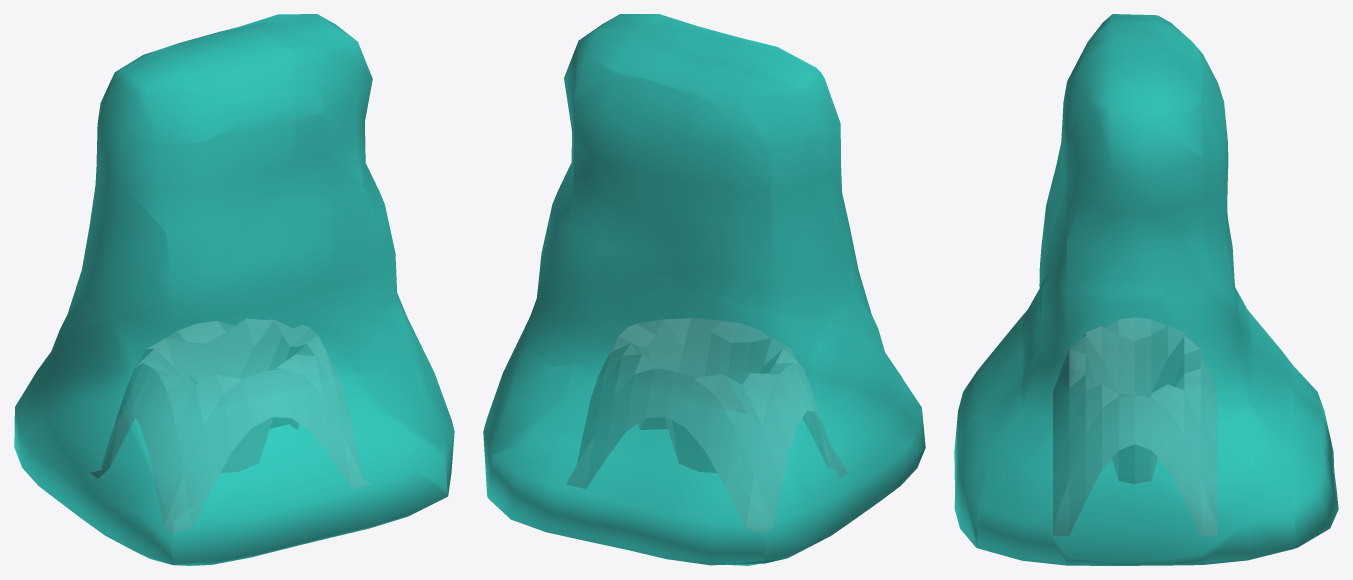
3 renders of one model, left to right at view 1: azimuth 30°, elevation 25°; view 2: azimuth 150°, elevation 25°; view 3: azimuth 270°, elevation 25°, orthographic.
Visible parts, largest first — view 1: Liquid_Domain, グリッド; view 2: Liquid_Domain, グリッド; view 3: Liquid_Domain, グリッド.
Part boxes in pixels (x1,y1,x2,y2): Liquid_Domain: [14, 14, 454, 565]; グリッド: [91, 319, 370, 532]; Liquid_Domain: [483, 14, 925, 565]; グリッド: [566, 318, 847, 532]; Liquid_Domain: [954, 14, 1338, 565]; グリッド: [1053, 317, 1216, 535].
Size of the model in its own units: 0.7489 by 0.9469 by 0.7014.
